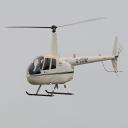helicopter: (6, 17, 121, 98)
